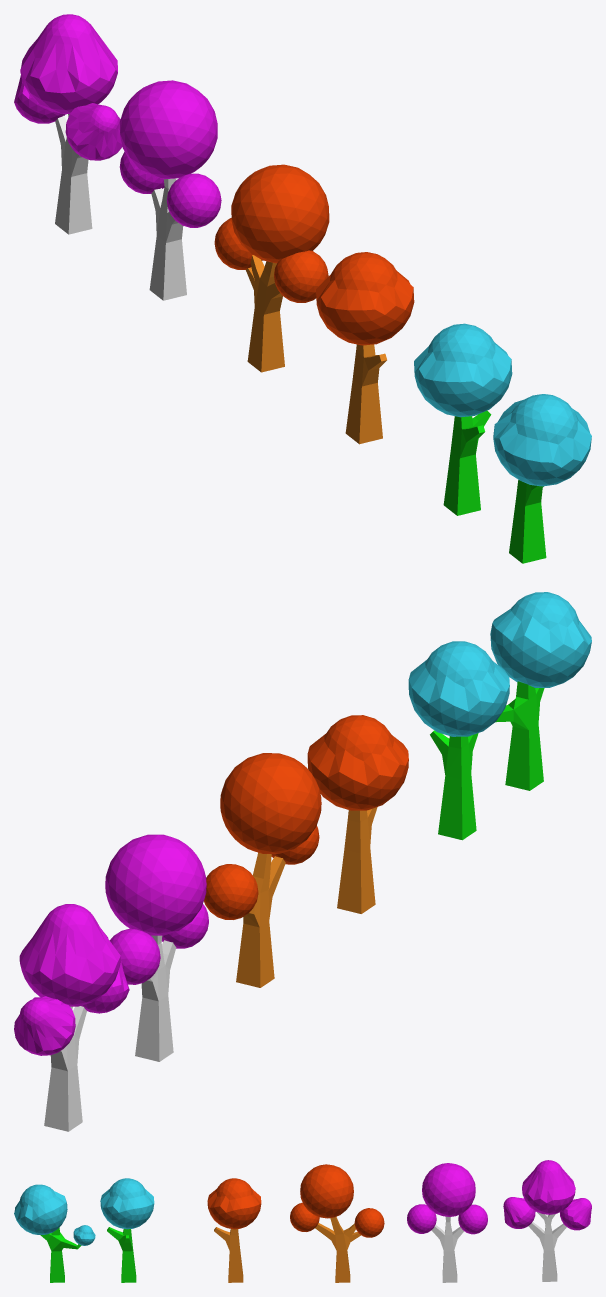
File: SweerTrees.fbx
3 renders of one model, top to bottom at view 1: azimuth 30°, elevation 25°; view 2: azimuth 150°, elevation 25°; view 3: azimuth 270°, elevation 25°, orthographic. The views are drawn at different scales.
Visible parts, largest first — view 1: Icosphere.018, Icosphere.002, Icosphere.016, Icosphere.006, Icosphere.005, Icosphere.004, Cube.001, Cube.005, Cube.003, Cube.002, Cube.004, Icosphere.017 (+6 smaller); view 2: Icosphere.002, Icosphere.018, Icosphere.004, Icosphere.016, Icosphere.006, Icosphere.005, Cube.001, Cube.005, Cube.006, Cube.003, Cube.002, Cube.004 (+6 smaller); view 3: Icosphere.018, Icosphere.002, Icosphere.016, Icosphere.004, Icosphere.005, Icosphere.006, Cube.001, Cube.004, Cube.003, Cube.006, Cube.002, Cube.005 (+7 smaller).
Boxes of the visible parts, x1,y1,x2,y2 form: Icosphere.018: (119, 80, 217, 179); Icosphere.002: (231, 164, 329, 263); Icosphere.016: (20, 14, 117, 114); Icosphere.006: (493, 394, 591, 486); Icosphere.005: (316, 252, 414, 345); Icosphere.004: (414, 323, 512, 417); Cube.001: (246, 255, 284, 372); Cube.005: (443, 410, 491, 515); Cube.003: (149, 178, 186, 300); Cube.002: (345, 344, 386, 444); Cube.004: (55, 114, 92, 234); Icosphere.017: (65, 103, 122, 160); Icosphere.002: (220, 753, 321, 853); Icosphere.018: (105, 834, 206, 935); Icosphere.004: (408, 641, 509, 736); Icosphere.016: (19, 904, 120, 1006); Icosphere.006: (490, 592, 591, 687); Icosphere.005: (307, 715, 408, 810); Cube.001: (236, 852, 285, 987); Cube.005: (430, 730, 478, 840); Cube.006: (495, 681, 544, 790); Cube.003: (135, 935, 176, 1061); Cube.002: (337, 807, 377, 913); Cube.004: (44, 1006, 86, 1131); Icosphere.018: (422, 1163, 475, 1216); Icosphere.002: (300, 1164, 353, 1218); Icosphere.016: (522, 1160, 575, 1214); Icosphere.004: (100, 1178, 154, 1229); Icosphere.005: (207, 1178, 261, 1229); Icosphere.006: (14, 1184, 67, 1234); Cube.001: (315, 1216, 360, 1282); Cube.004: (528, 1212, 566, 1281); Cube.003: (431, 1216, 464, 1282); Cube.006: (40, 1227, 81, 1282); Cube.002: (214, 1227, 243, 1282); Cube.005: (107, 1227, 136, 1282).
Size of the model in its own units: 1.65 by 3.58 by 16.2.
